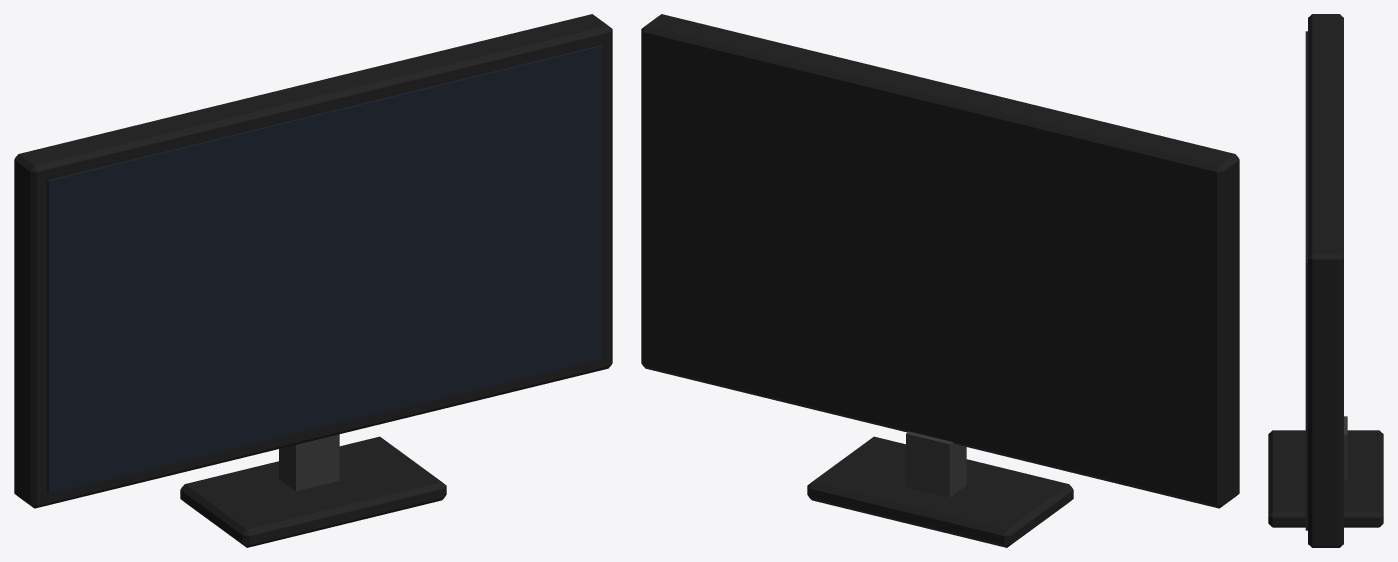
Rendered from FUR_TV.fbx.
The picture shows the model from 3 angles, left to right: view 1: azimuth 30°, elevation 25°; view 2: azimuth 150°, elevation 25°; view 3: azimuth 270°, elevation 25°; orthographic projection. The views are drawn at different scales.
Parts seen in each view (by area): view 1: FUR_TV; view 2: FUR_TV; view 3: FUR_TV.
Boxes of the visible parts, left/top/right/bottom form: FUR_TV: left=14, top=14, right=612, bottom=547; FUR_TV: left=641, top=14, right=1239, bottom=547; FUR_TV: left=1268, top=14, right=1383, bottom=547.
Size of the model in its own units: 4 by 2.7 by 0.8.
